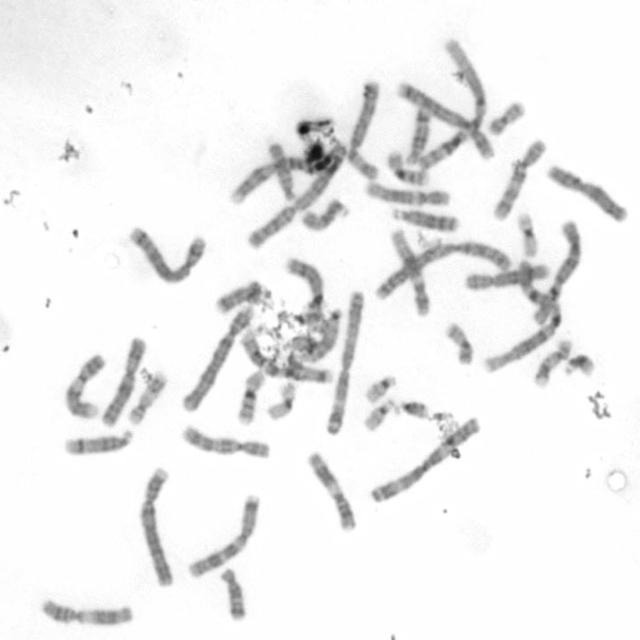A1: (412, 38, 490, 172), (482, 257, 563, 374)
A2: (245, 144, 348, 254), (370, 239, 515, 303)
A3: (368, 415, 483, 503), (324, 288, 366, 435)
B4: (179, 304, 255, 411), (137, 467, 176, 589)
B5: (395, 79, 497, 161), (127, 224, 207, 286)
C10: (491, 136, 548, 226), (180, 422, 274, 462)
C11: (306, 448, 358, 533), (41, 596, 136, 628)
C12: (390, 228, 432, 318), (365, 182, 451, 208)
C6: (531, 218, 585, 325), (346, 79, 381, 178)
C7: (184, 492, 264, 578), (240, 328, 336, 386)
C8: (283, 257, 324, 327), (462, 262, 551, 293)
C9: (228, 155, 306, 205), (64, 351, 106, 421)
D13: (300, 306, 342, 364), (388, 206, 463, 233)
D14: (62, 426, 136, 456), (404, 106, 432, 166)
D15: (266, 140, 298, 202), (299, 198, 352, 232)
E16: (232, 368, 264, 426), (386, 148, 432, 187)
E17: (128, 368, 170, 426), (530, 336, 574, 388)
E18: (210, 279, 264, 315), (220, 567, 247, 623)
F19: (264, 379, 298, 421), (517, 212, 540, 260)
F20: (487, 100, 528, 138), (445, 320, 474, 367)
G21: (561, 353, 600, 378), (393, 397, 432, 420)
G22: (360, 398, 394, 433), (364, 372, 398, 404)
X: (546, 164, 631, 225), (100, 336, 148, 426)
